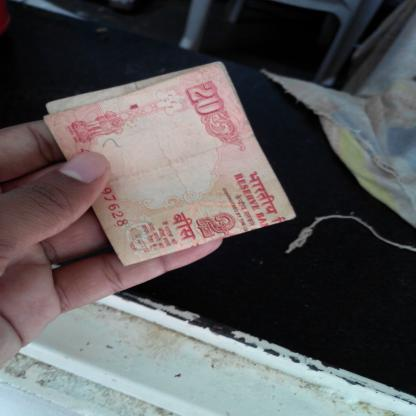Old20Front: (44, 64, 278, 260)
